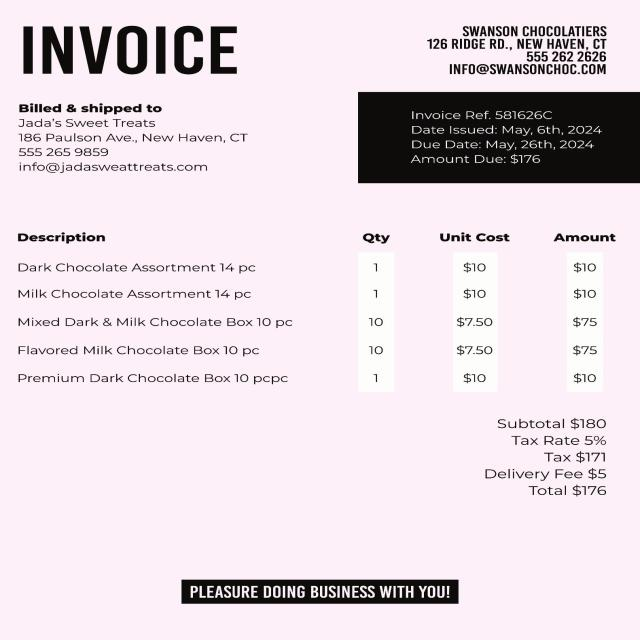paragraph: (360, 90, 640, 183), (14, 101, 254, 174), (18, 23, 250, 78), (487, 417, 619, 503), (425, 19, 610, 76), (181, 580, 459, 606)
table: (8, 231, 619, 391)
